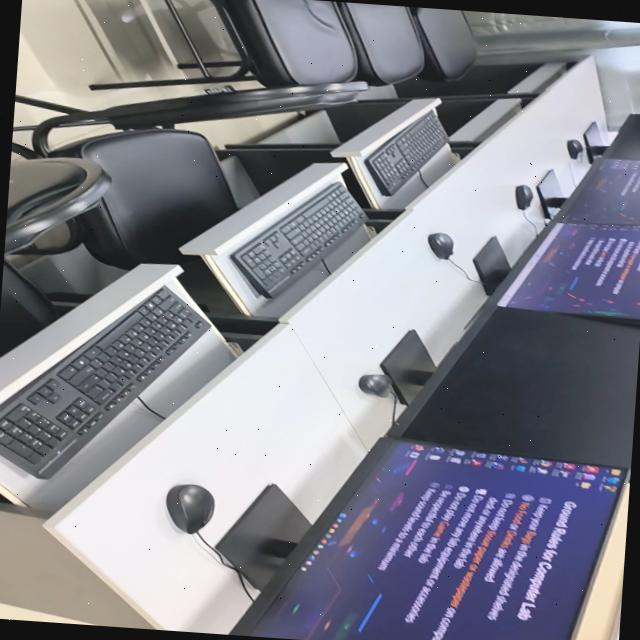Chair: (11, 81, 366, 268), (91, 0, 357, 88), (0, 157, 111, 356), (336, 0, 423, 85), (408, 5, 476, 81), (410, 6, 476, 80), (366, 79, 399, 85)
Keyboard: (0, 286, 210, 476), (231, 181, 366, 297), (366, 109, 447, 194)
Monitor: (229, 437, 625, 640), (389, 301, 640, 473), (497, 221, 640, 318), (555, 157, 640, 223), (604, 113, 640, 159)
Mouse: (166, 483, 214, 533), (359, 372, 393, 396), (428, 231, 454, 258), (516, 184, 533, 208), (568, 138, 583, 158)
